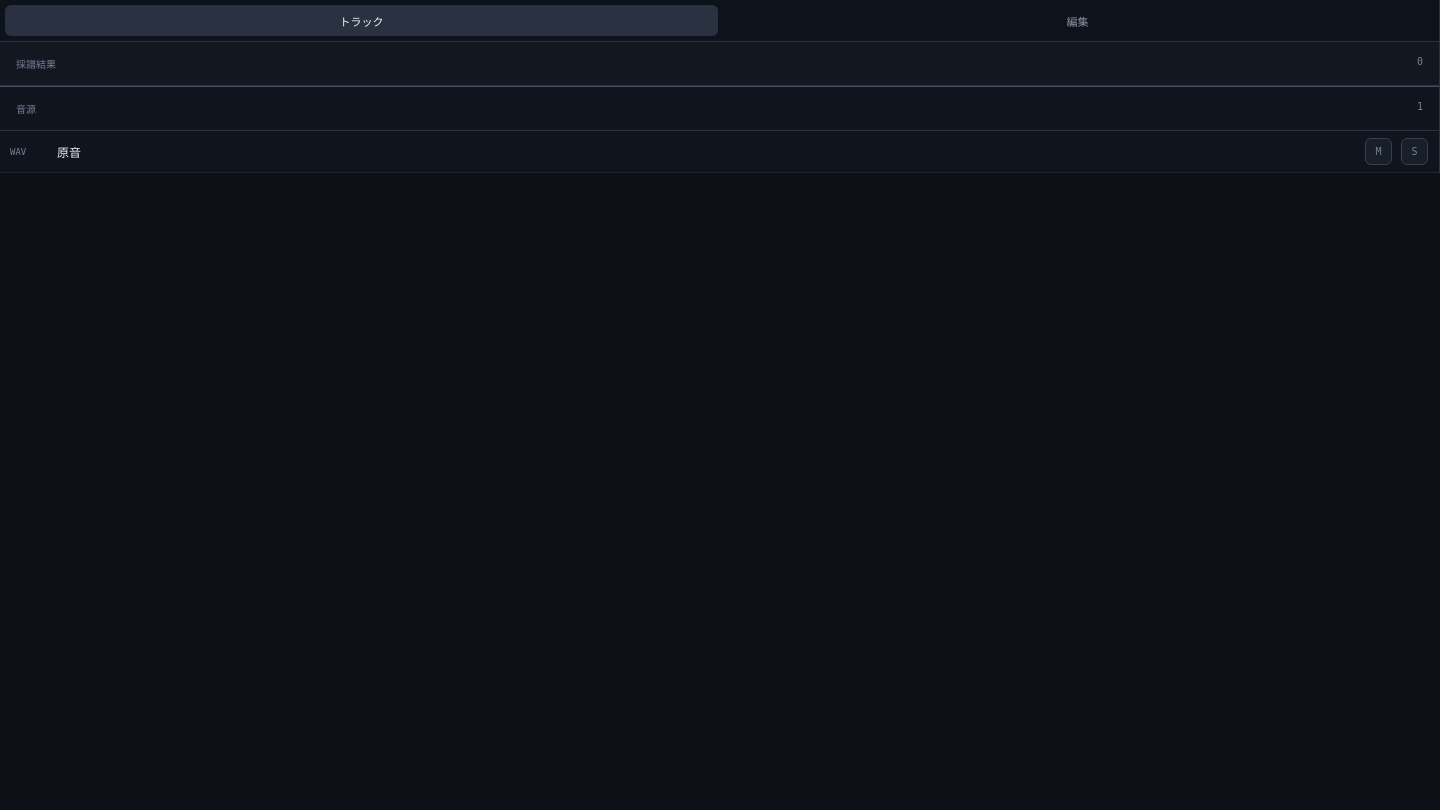
Test: EditorSidebar › allows deletion but locks timeline edits while transcription is running
Click the tab with id "edit-tab" at x=1078, y=20, box x1=721 y1=5 x2=1434 y2=36
(page scrolled)
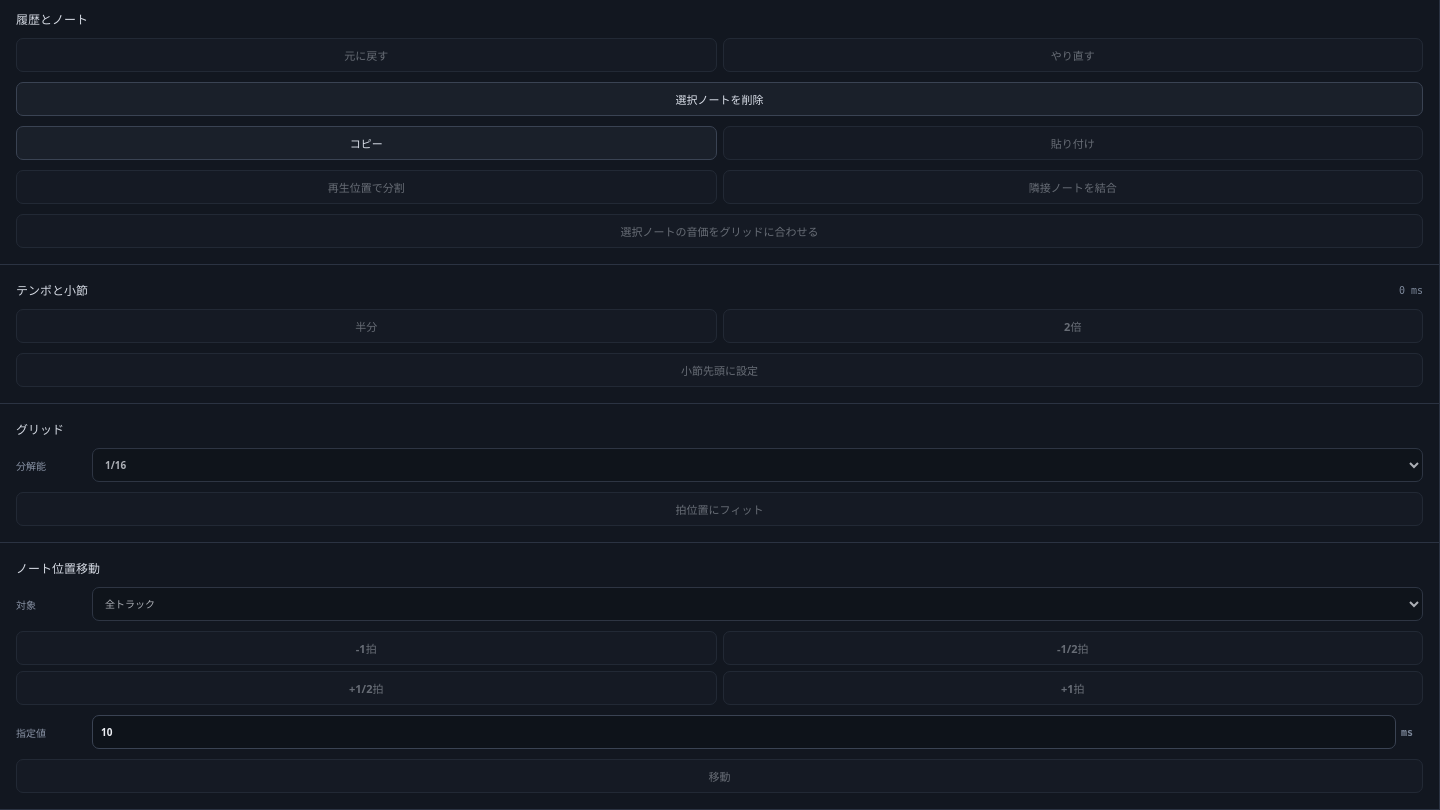
expect the button "選択ノートを削除" is enabled: met, box x1=16 y1=82 x2=1423 y2=116
expect the button "元に戻す" is disabled: met, box x1=16 y1=38 x2=716 y2=72
expect the button "やり直す" is disabled: met, box x1=722 y1=38 x2=1423 y2=72
